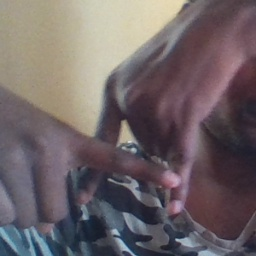H: (69, 91, 201, 232)
